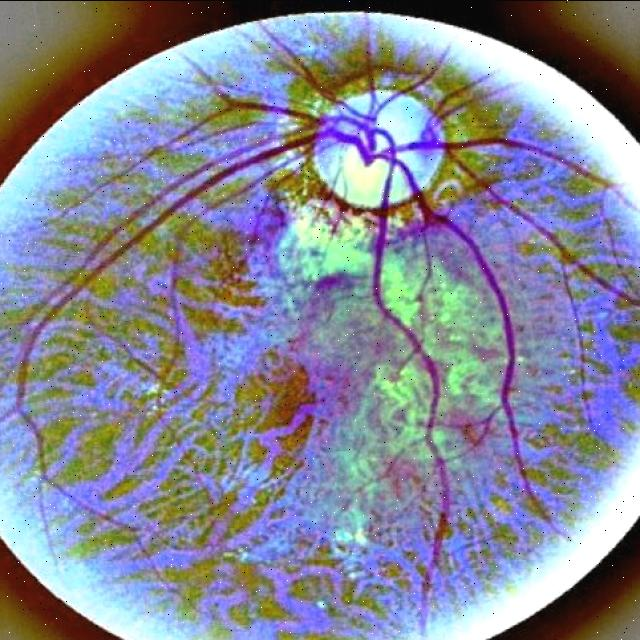Macula: (277, 362, 347, 450)
Nerves: (395, 73, 592, 247), (94, 131, 316, 279), (372, 164, 441, 451)
Optic Disk: (315, 89, 445, 206)
